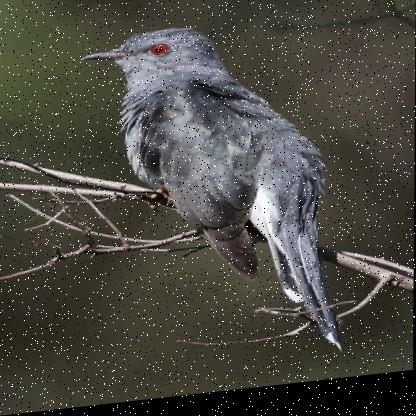Burung: (77, 16, 345, 384)
